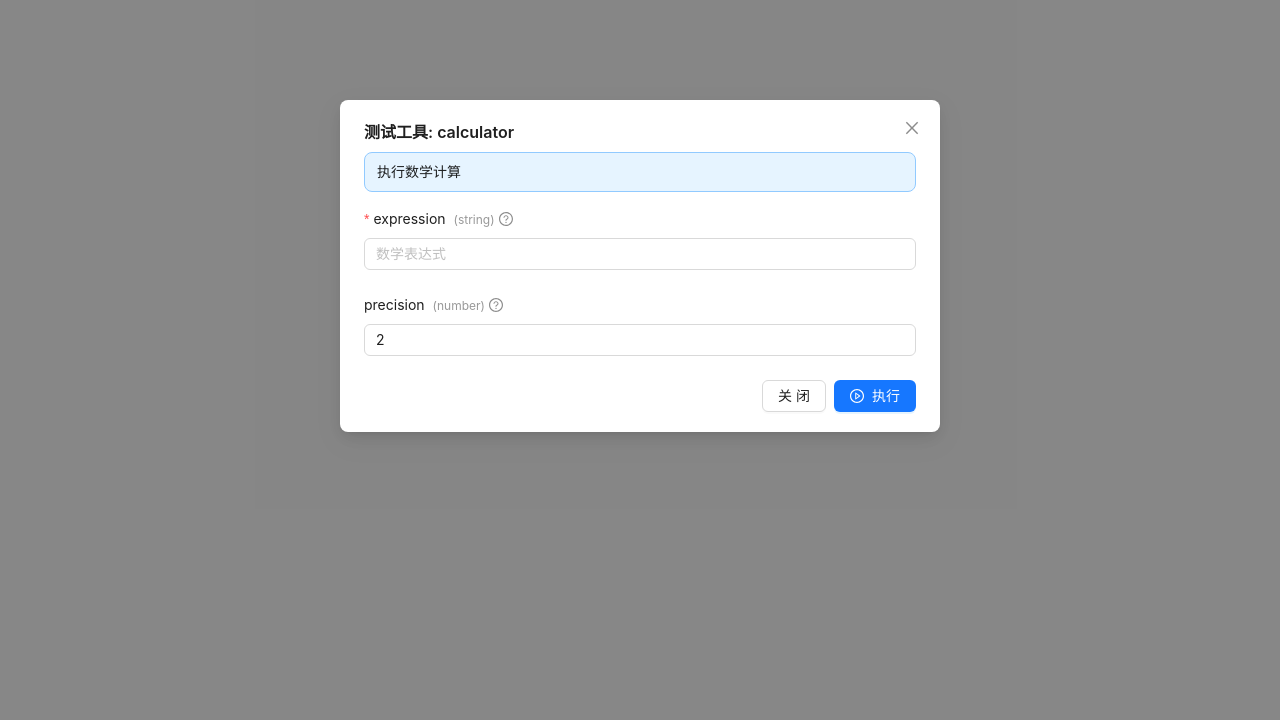
it: ToolExecuteModal 执行功能 › 应该显示执行结果
This screenshot has width=1280, height=720.
Type "6 * 7" into the field with placeholder "数学表达式" at (640, 254), box [364, 238, 916, 270]
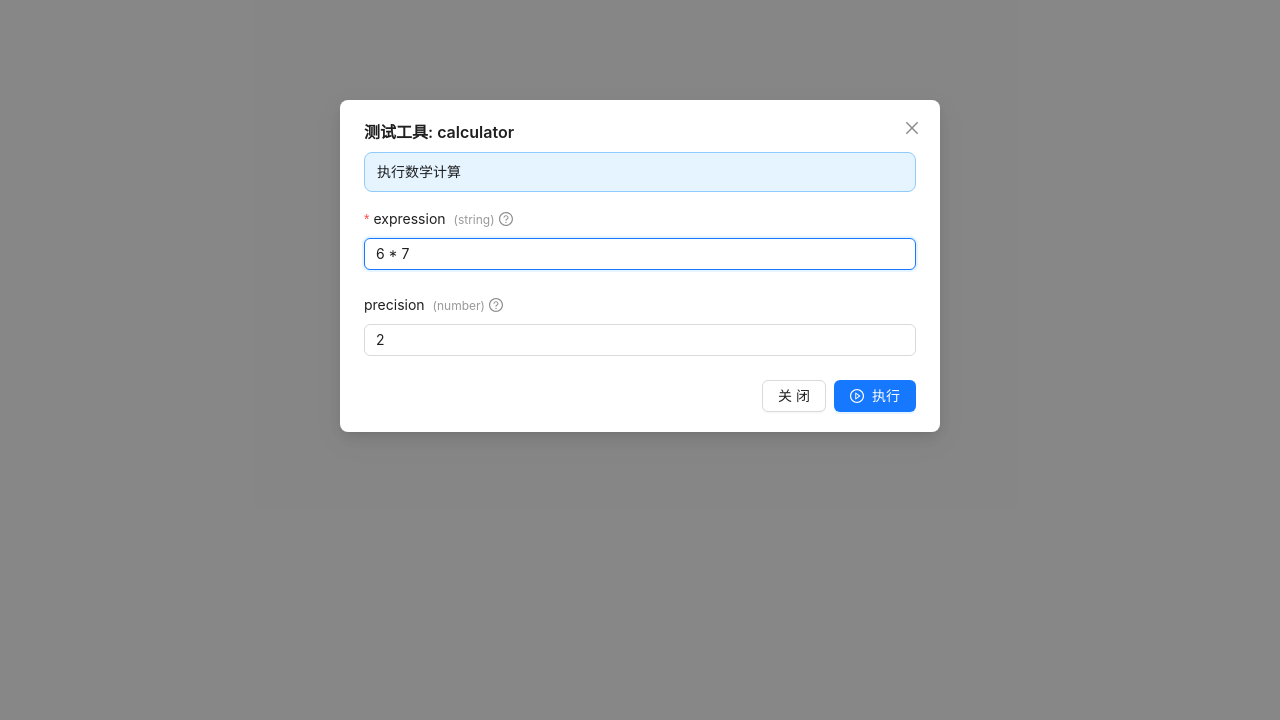
Click the button "执行" at (875, 396), box [834, 380, 916, 412]
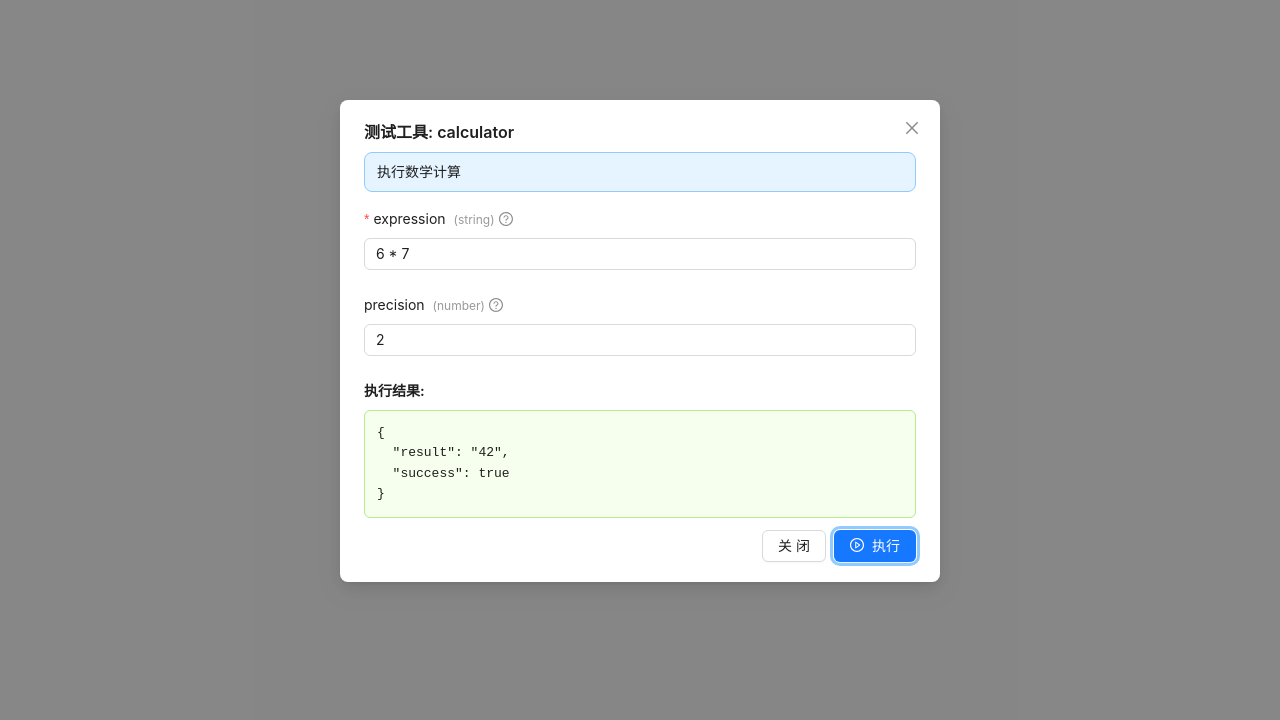
Result: the text "执行结果:" is shown at [364, 382, 425, 399]
